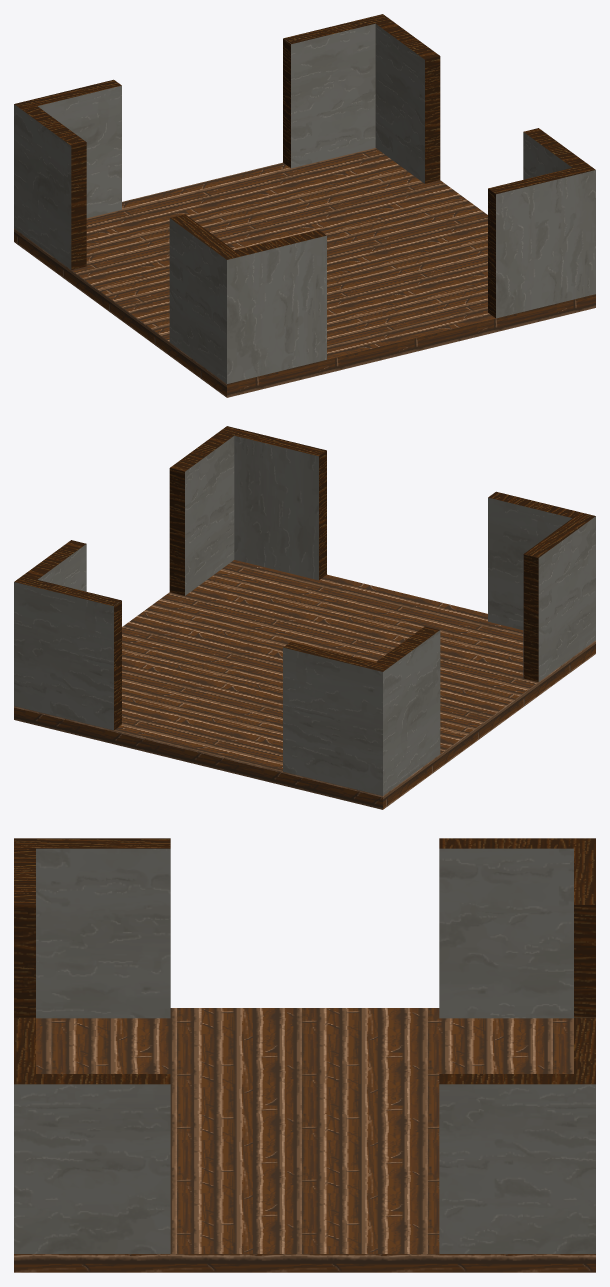
Rendered from room-01.fbx.
The picture shows the model from 3 angles, top to bottom: view 1: azimuth 30°, elevation 25°; view 2: azimuth 150°, elevation 25°; view 3: azimuth 270°, elevation 25°; orthographic projection. The views are drawn at different scales.
Visible parts, largest first — view 1: 01; view 2: 01; view 3: 01.
Part boxes in pixels (x1=…): 01: x1=14, y1=14, x2=595, y2=397; 01: x1=14, y1=426, x2=595, y2=809; 01: x1=14, y1=838, x2=595, y2=1272.
Bounding box in the file's own units: 600 × 214 × 600.
1 material, 1 textured.
